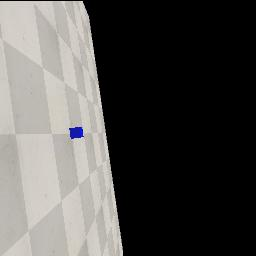box: (69, 127, 84, 139)
